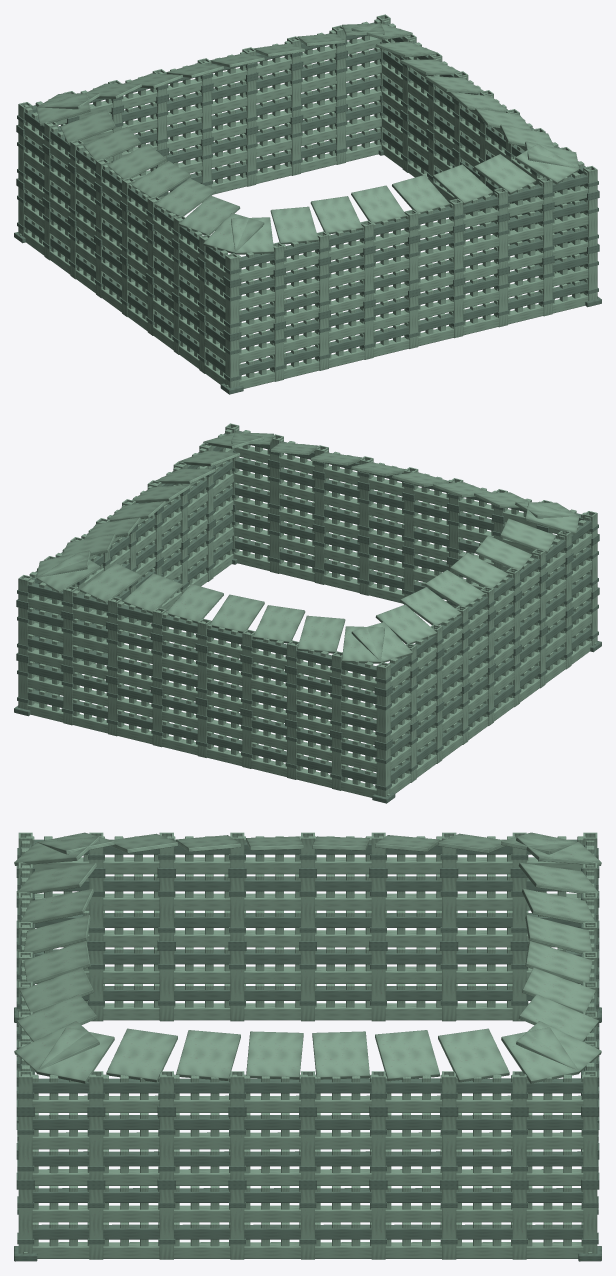
The picture shows the model from 3 angles, top to bottom: view 1: azimuth 30°, elevation 25°; view 2: azimuth 150°, elevation 25°; view 3: azimuth 270°, elevation 25°; orthographic projection. The views are drawn at different scales.
Visible parts, largest first — view 1: Crown alloy petal 0-1, Crown alloy petal 0-2, Crown alloy petal 0-3, Crown alloy petal 0-4, Crown alloy petal 3-6, Crown alloy petal 0-5, Crown alloy petal 0-6, Crown alloy petal 3-5, Crown alloy petal 3-4, Crown alloy petal 0-0, Crown alloy petal 3-3, Crown alloy petal 3-7 (+18 smaller); view 2: Crown alloy petal 2-6, Crown alloy petal 2-5, Crown alloy petal 2-4, Crown alloy petal 2-3, Crown alloy petal 3-1, Crown alloy petal 2-2, Crown alloy petal 2-1, Crown alloy petal 3-2, Crown alloy petal 3-3, Crown alloy petal 2-7, Crown alloy petal 3-4, Crown alloy petal 3-0 (+18 smaller); view 3: Crown alloy petal 1-1, Crown alloy petal 1-6, Crown alloy petal 1-5, Crown alloy petal 1-2, Crown alloy petal 1-4, Crown alloy petal 1-3, Crown alloy petal 1-7, Crown alloy petal 1-0, Crown alloy petal 2-1, Crown alloy petal 0-6, Crown alloy petal 2-2, Crown alloy petal 0-5 (+186 smaller).
Boxes of the visible parts, left/top/right/bottom form: Crown alloy petal 0-1: left=270, top=206, right=318, bottom=244; Crown alloy petal 0-2: left=310, top=196, right=362, bottom=234; Crown alloy petal 0-3: left=351, top=185, right=406, bottom=223; Crown alloy petal 0-4: left=392, top=175, right=449, bottom=213; Crown alloy petal 3-6: left=179, top=195, right=240, bottom=234; Crown alloy petal 0-5: left=433, top=164, right=493, bottom=204; Crown alloy petal 0-6: left=474, top=154, right=536, bottom=194; Crown alloy petal 3-5: left=154, top=178, right=215, bottom=216; Crown alloy petal 3-4: left=131, top=161, right=190, bottom=197; Crown alloy petal 0-0: left=231, top=217, right=274, bottom=254; Crown alloy petal 3-3: left=107, top=143, right=165, bottom=179; Crown alloy petal 3-7: left=203, top=213, right=264, bottom=253; Crown alloy petal 2-6: left=297, top=615, right=345, bottom=653; Crown alloy petal 2-5: left=253, top=605, right=305, bottom=643; Crown alloy petal 2-4: left=209, top=594, right=264, bottom=633; Crown alloy petal 2-3: left=166, top=584, right=223, bottom=623; Crown alloy petal 3-1: left=375, top=604, right=436, bottom=643; Crown alloy petal 2-2: left=122, top=573, right=182, bottom=613; Crown alloy petal 2-1: left=79, top=563, right=141, bottom=603; Crown alloy petal 3-2: left=400, top=587, right=461, bottom=625; Crown alloy petal 3-3: left=425, top=570, right=484, bottom=606; Crown alloy petal 2-7: left=341, top=626, right=384, bottom=663; Crown alloy petal 3-4: left=450, top=552, right=508, bottom=588; Crown alloy petal 3-0: left=351, top=622, right=412, bottom=662; Crown alloy petal 1-1: left=106, top=1028, right=177, bottom=1082; Crown alloy petal 1-6: left=438, top=1028, right=509, bottom=1082; Crown alloy petal 1-5: left=375, top=1030, right=439, bottom=1080; Crown alloy petal 1-2: left=176, top=1030, right=240, bottom=1080; Crown alloy petal 1-4: left=312, top=1031, right=369, bottom=1079; Crown alloy petal 1-3: left=246, top=1031, right=303, bottom=1079; Crown alloy petal 1-7: left=501, top=1027, right=578, bottom=1083; Crown alloy petal 1-0: left=37, top=1027, right=114, bottom=1083; Crown alloy petal 2-1: left=518, top=994, right=598, bottom=1041; Crown alloy petal 0-6: left=17, top=994, right=97, bottom=1041; Crown alloy petal 2-2: left=522, top=967, right=595, bottom=1013; Crown alloy petal 0-5: left=20, top=967, right=93, bottom=1013.
Bounding box in the file's own units: 3.75 × 1.4 × 3.75.
Materials: 2 (2 with a texture image).
